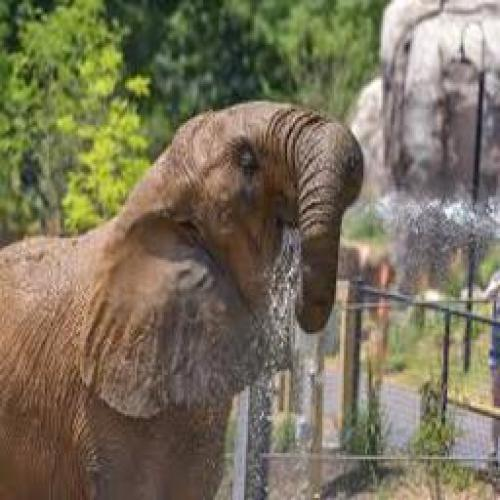african_elephant-endangered: (4, 98, 363, 493)
